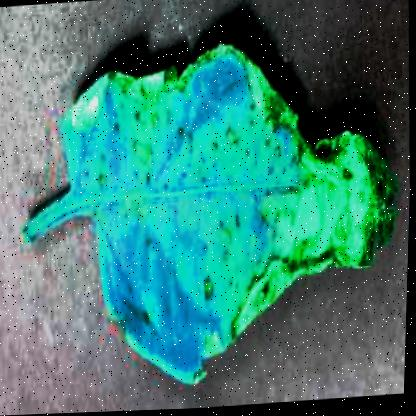BACTERIAL SPOT: (10, 29, 412, 403)
